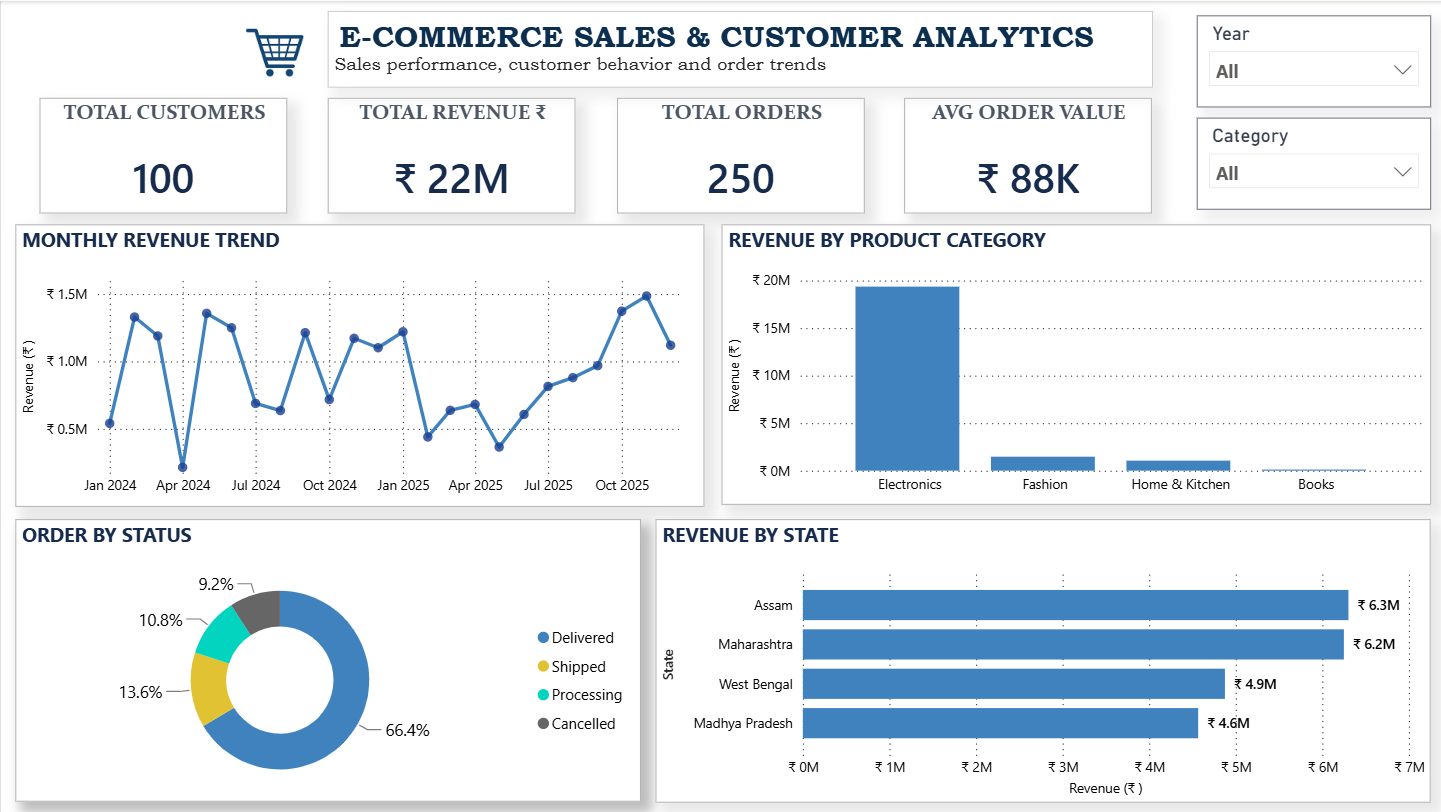

Layout of this report page (visuals, bound fields, positions):
{"tool":"powerbi","page":{"name":"Sales Overview","canvas":[1280,720],"ordinal":0},"visuals":[{"type":"cardVisual","title":"TOTAL REVENUE ₹","fields":{"Data":["Measure Table.Total Revenue"]},"box":[289.8,85.6,220,103],"z":0},{"type":"image","box":[194.4,0,103.9,85.6],"z":1000},{"type":"cardVisual","title":"TOTAL ORDERS","fields":{"Data":["Measure Table.Total Orders"]},"box":[546.6,85.6,220,103],"z":2000},{"type":"cardVisual","title":"TOTAL CUSTOMERS","fields":{"Data":["Measure Table.Total Customers"]},"box":[34.2,85.6,220,103],"z":3000},{"type":"cardVisual","title":"AVG ORDER VALUE","fields":{"Data":["Measure Table.Average Order Value"]},"box":[802.2,85.6,220,103],"z":4000},{"type":"slicer","fields":{"Values":["DimDate.Year"]},"box":[1061.4,12.2,207.9,81.9],"z":5000},{"type":"slicer","fields":{"Values":["Products.category"]},"box":[1061.4,103.9,207.9,81.9],"z":6000},{"type":"lineChart","title":"MONTHLY REVENUE TREND","fields":{"Category":["DimDate.Year-Month"],"Y":["Measure Table.Total Revenue"]},"box":[12.2,198.1,611.4,250.7],"z":7000},{"type":"clusteredColumnChart","title":"REVENUE BY PRODUCT CATEGORY","fields":{"Category":["Products.Category"],"Y":["Measure Table.Total Revenue"]},"box":[639.5,198.1,629.8,249.5],"z":8000},{"type":"donutChart","title":"ORDER BY STATUS","fields":{"Category":["Orders.order_status"],"Y":["Measure Table.Total Orders"]},"box":[12.2,459.8,555.2,250.7],"z":9000},{"type":"clusteredBarChart","title":"REVENUE BY STATE","fields":{"Category":["Orders.shipping_state"],"Y":["Measure Table.Total Revenue"]},"box":[580.8,459.8,688.5,251.9],"z":10000},{"type":"textbox","box":[289.8,8.6,732.5,68.5],"z":11000}]}

Visuals, with their boxes in screenshot pixels (x1, y1, x2, y2), scaled from the page's 1280x720 canvas onto the 1441x812 screenshot:
"TOTAL REVENUE ₹" cardVisual: rect(326, 97, 574, 213)
image: rect(219, 0, 336, 97)
"TOTAL ORDERS" cardVisual: rect(615, 97, 863, 213)
"TOTAL CUSTOMERS" cardVisual: rect(39, 97, 286, 213)
"AVG ORDER VALUE" cardVisual: rect(903, 97, 1151, 213)
slicer - DimDate.Year: rect(1195, 14, 1429, 106)
slicer - Products.category: rect(1195, 117, 1429, 210)
"MONTHLY REVENUE TREND" lineChart: rect(14, 223, 702, 506)
"REVENUE BY PRODUCT CATEGORY" clusteredColumnChart: rect(720, 223, 1429, 505)
"ORDER BY STATUS" donutChart: rect(14, 519, 639, 801)
"REVENUE BY STATE" clusteredBarChart: rect(654, 519, 1429, 803)
textbox: rect(326, 10, 1151, 87)
